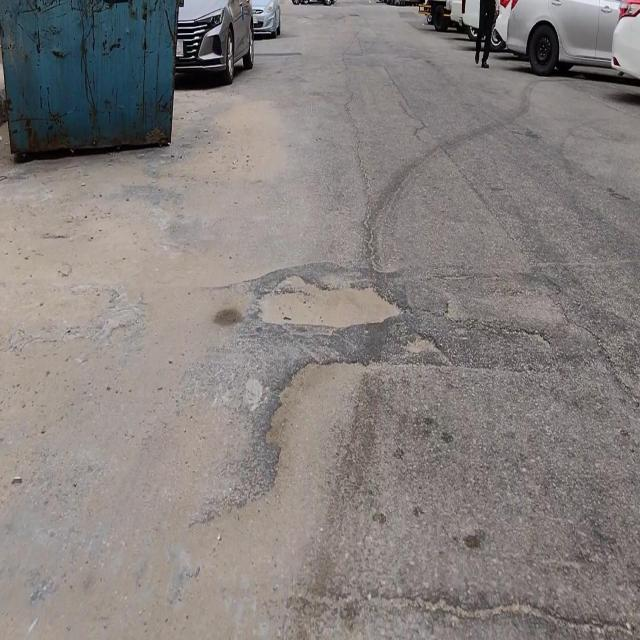Pothole: (257, 268, 410, 333)
